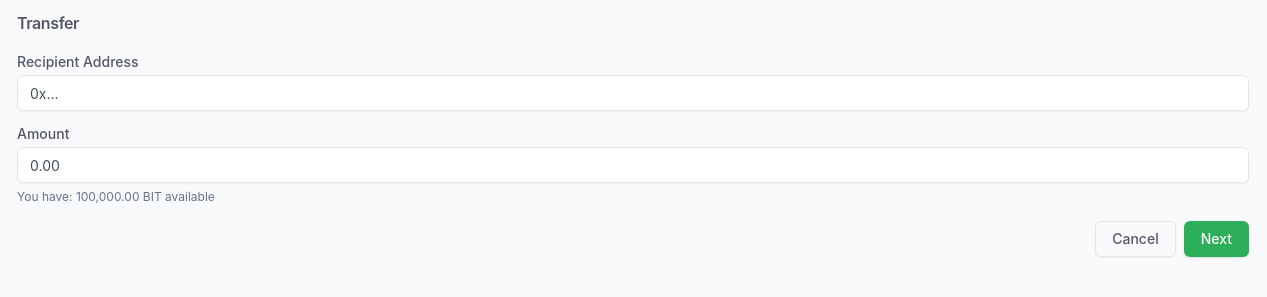
TransferForm Component › shows validation error when amount exceeds balance
Type "0x1234567890abcdef1234567890abcdef12345678" into the field labelled "Recipient Address" at x=633, y=93, box [17,75,1249,111]
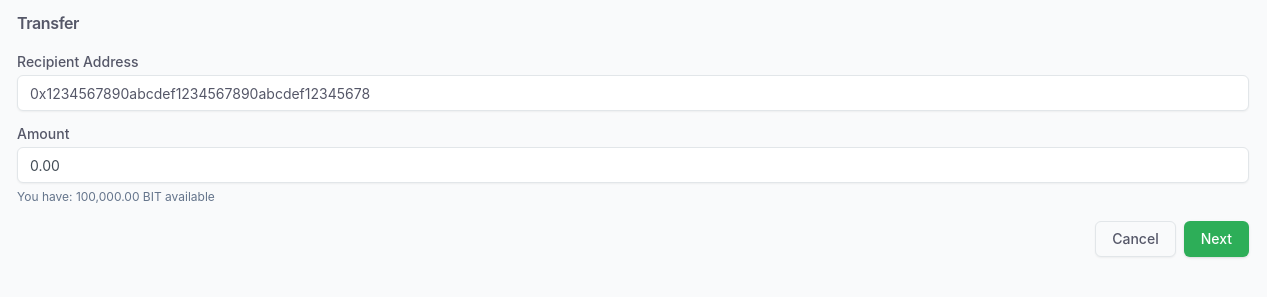
Type "150,000" into the field labelled "Amount" at x=633, y=165, box [17,147,1249,183]
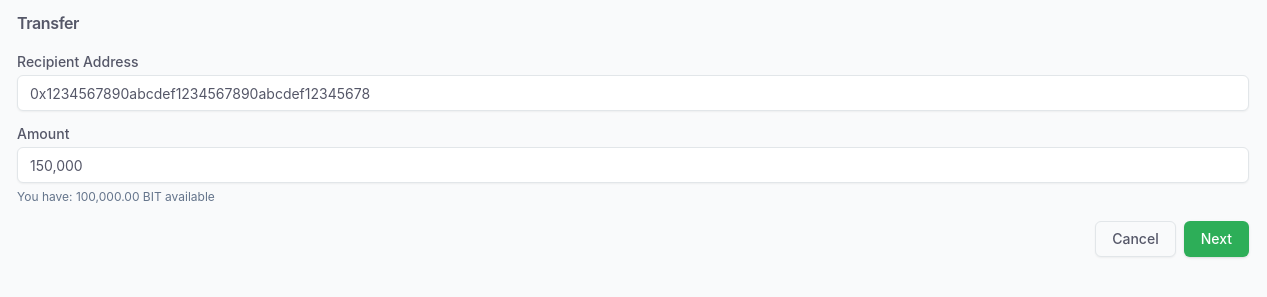
Click the button "Next" at x=1216, y=239, box [1184,221,1249,257]
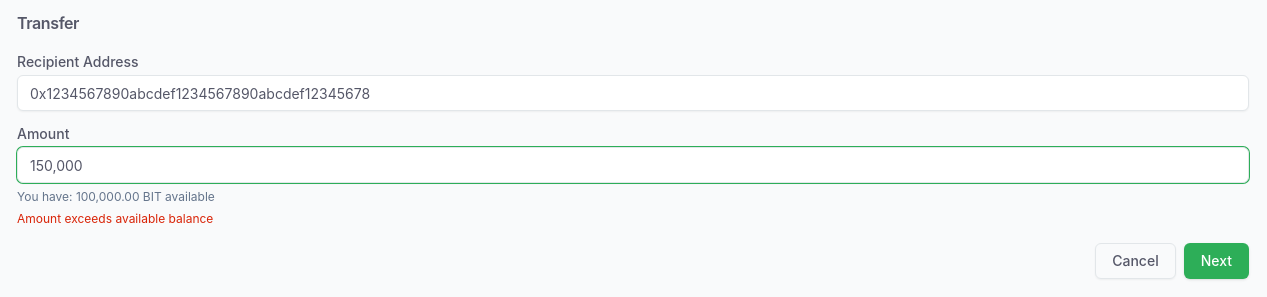
Now the text "Amount exceeds available balance" is shown, box [17,211,213,226]
